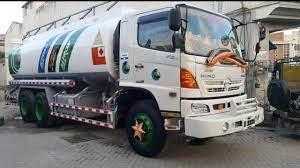truck: (10, 4, 263, 158)
